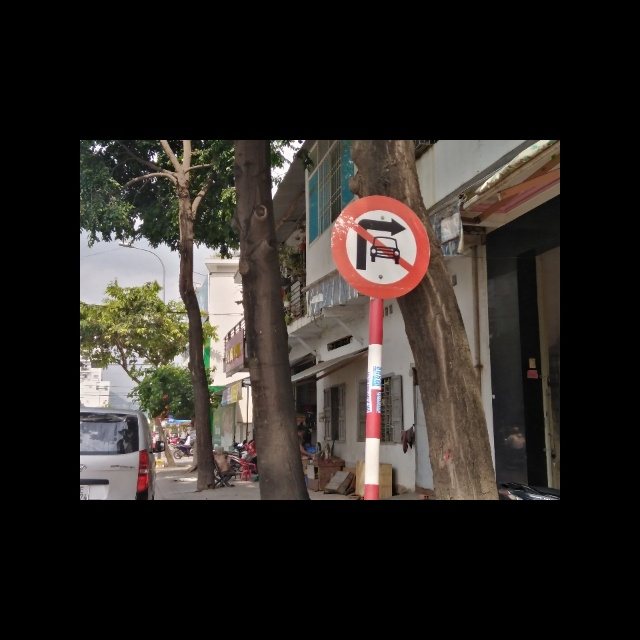Cấm xe ô tô rẽ trái: (334, 194, 436, 298)
